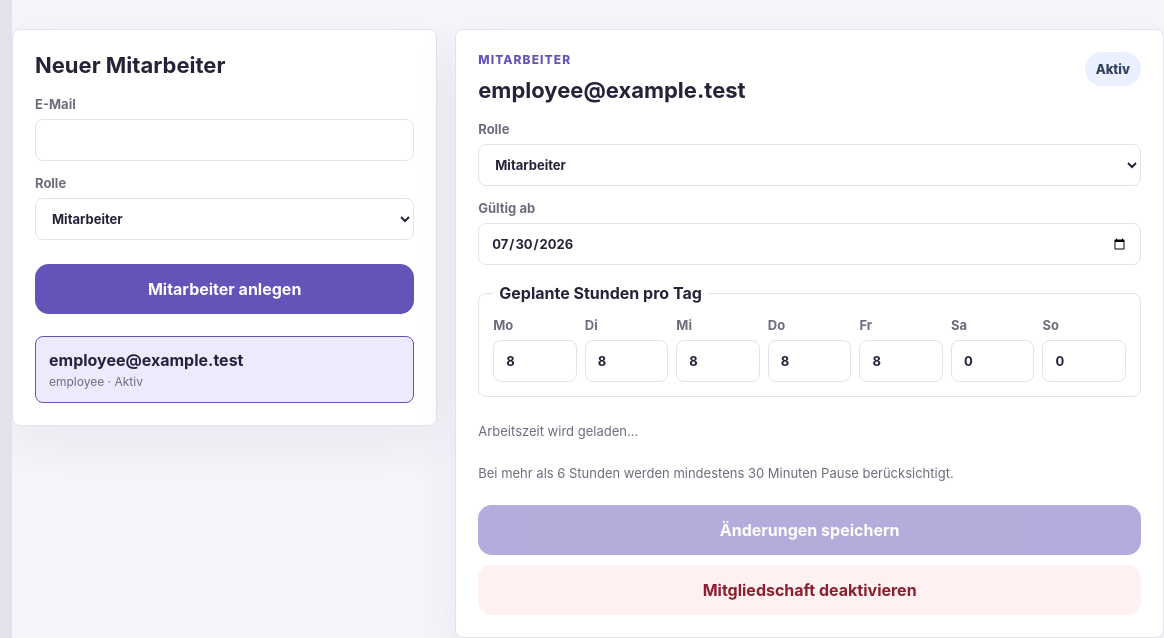
Test: EmployeesPage › confirms and deactivates an active membership using its current version
(page scrolled)
Click the button "Mitgliedschaft deaktivieren" at (810, 590), box [478,565,1141,615]
(page scrolled)
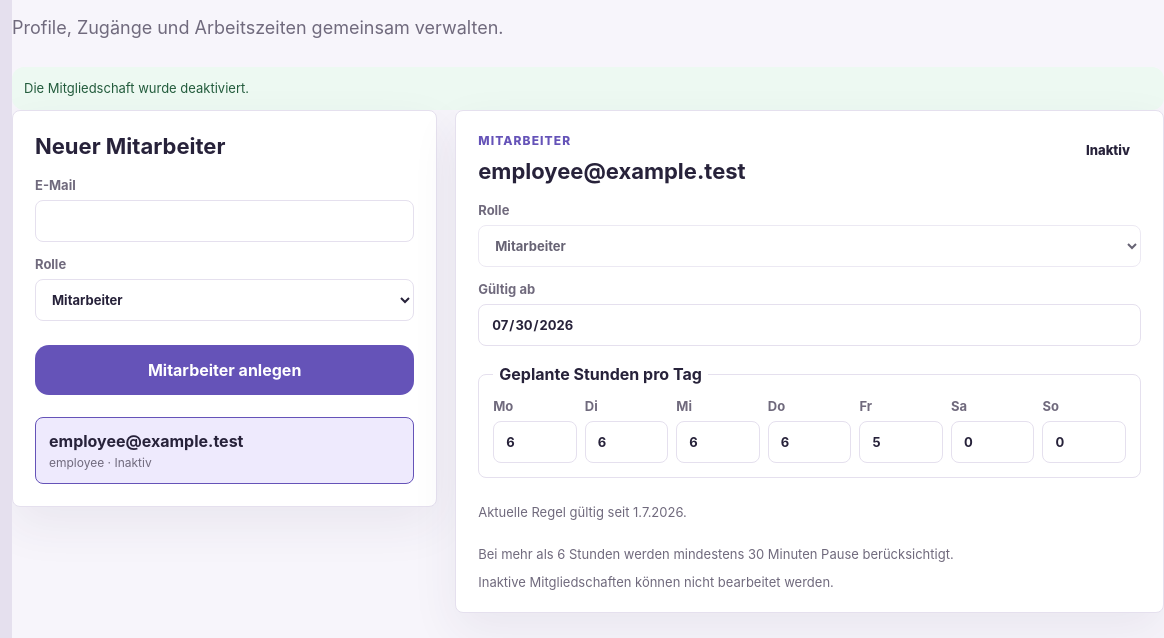
Expected: the text "Die Mitgliedschaft wurde deaktiviert." is shown, [12,67,1163,110]
Expected: the text "Inaktive Mitgliedschaften können nicht bearbeitet werden." is shown, [478,574,834,590]
